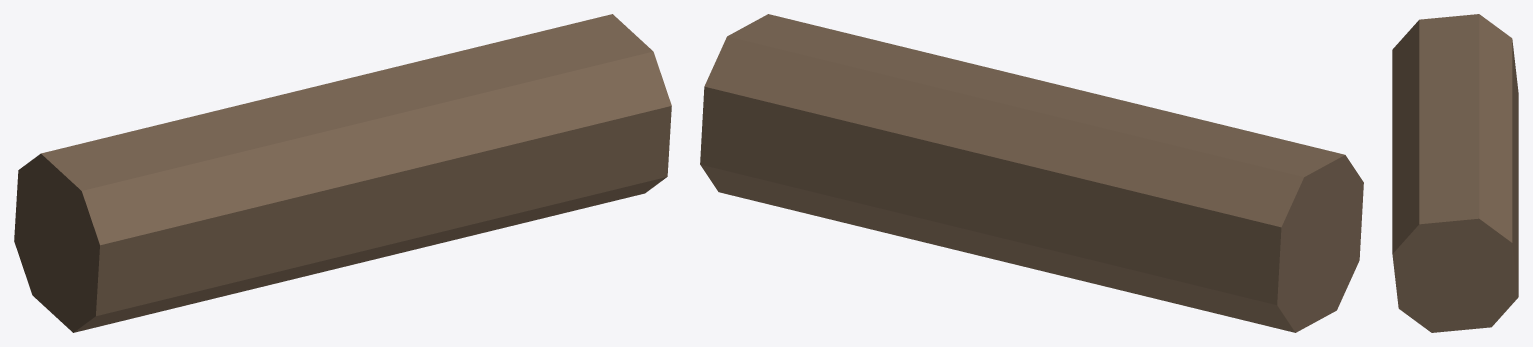
The model's file is firewood_01.fbx.
The picture shows the model from 3 angles, left to right: view 1: azimuth 30°, elevation 25°; view 2: azimuth 150°, elevation 25°; view 3: azimuth 270°, elevation 25°; orthographic projection. The views are drawn at different scales.
Visible parts, largest first — view 1: Wood_Piece_geo3; view 2: Wood_Piece_geo3; view 3: Wood_Piece_geo3.
Boxes of the visible parts, box(x1,y1,x2,y2) form: Wood_Piece_geo3: box(14, 14, 671, 332); Wood_Piece_geo3: box(700, 14, 1363, 332); Wood_Piece_geo3: box(1392, 14, 1518, 332).
Bounding box in the file's own units: 0.658 × 0.1713 × 0.1713.
